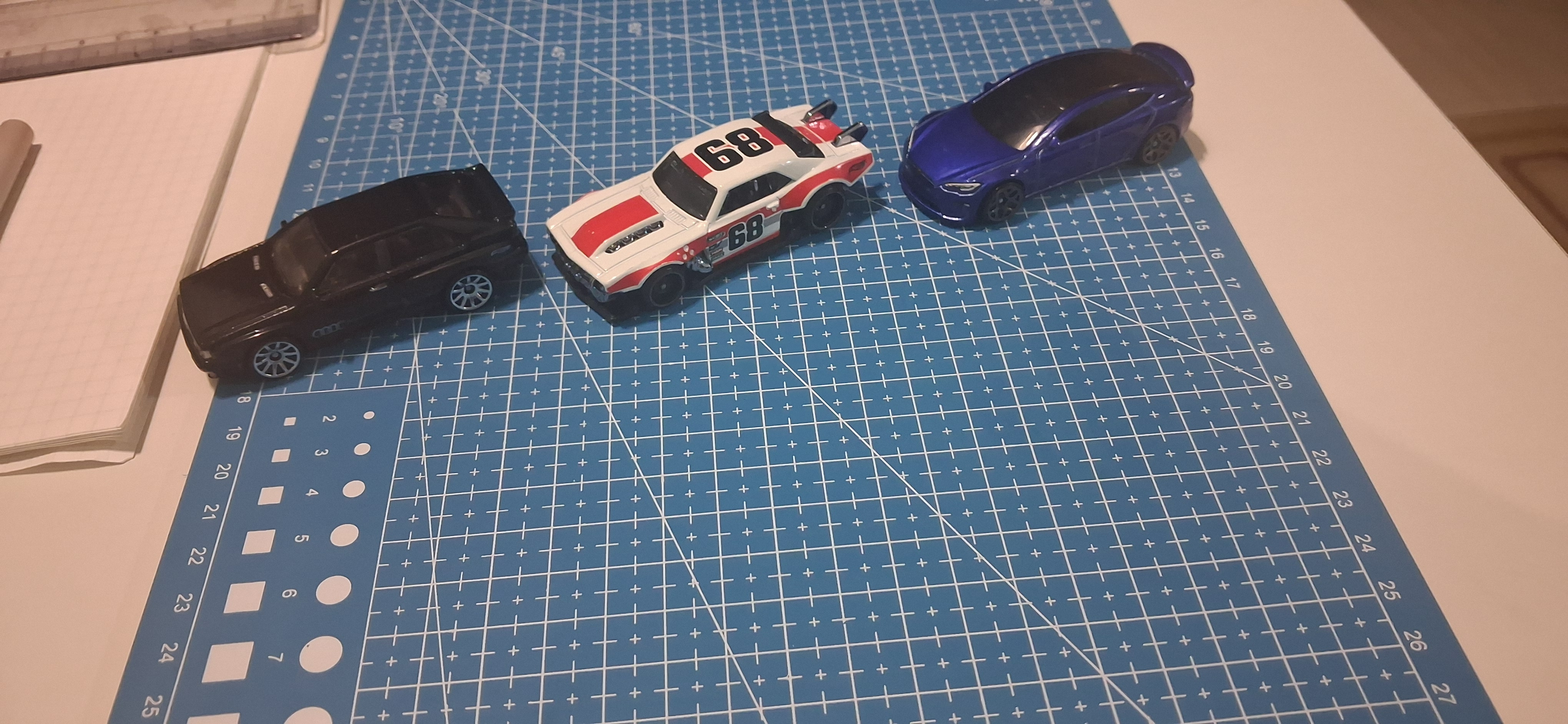Audi_Quattro: (151, 124, 529, 417)
Camaro: (542, 47, 876, 361)
Tesla_Model_S_Plaid: (890, 18, 1214, 262)
